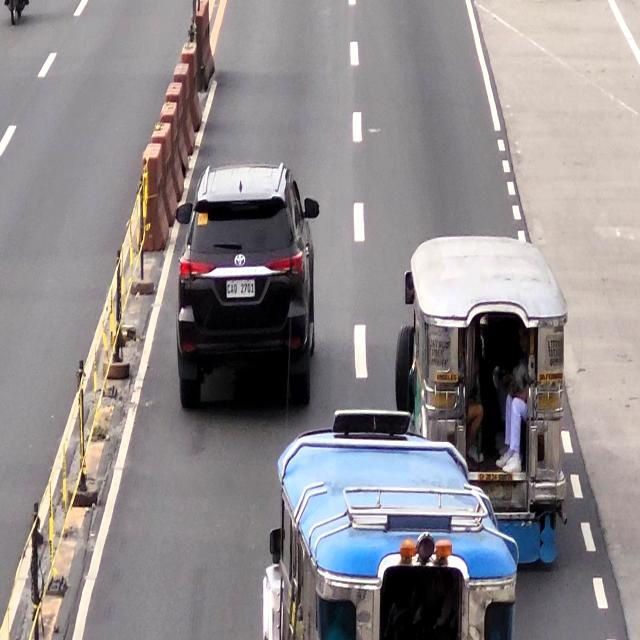Car: (179, 162, 315, 416)
Jeep: (272, 423, 508, 640), (404, 246, 564, 474)
License-Plate: (226, 280, 254, 299)
